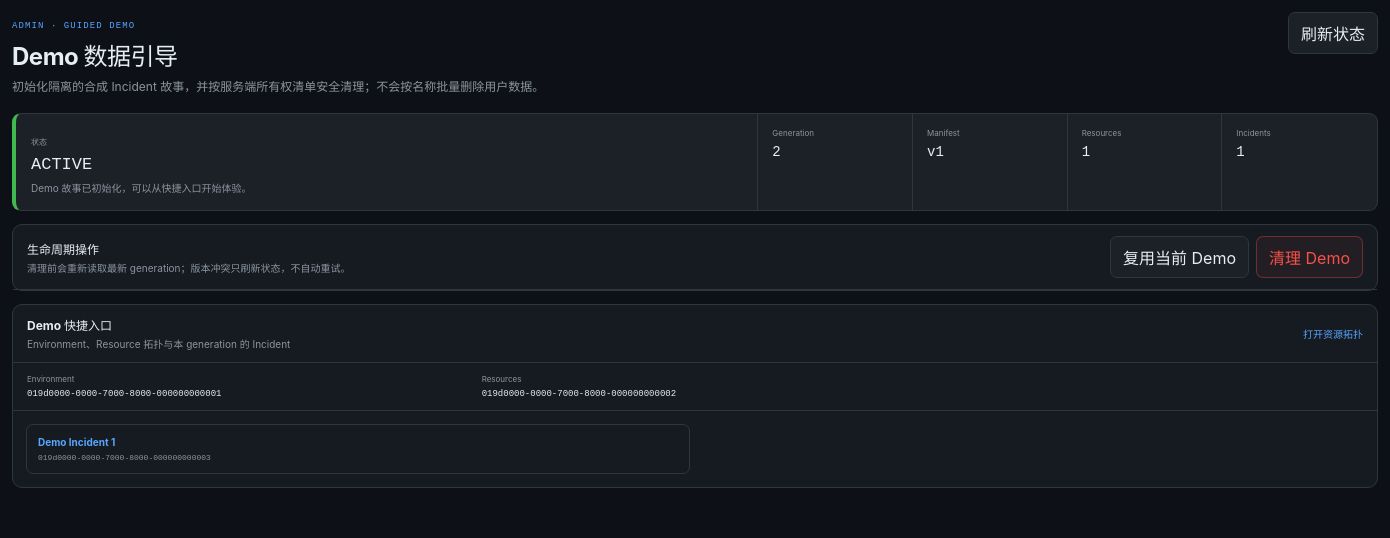
Scenario: Demo Admin page › refreshes status after a generation conflict without retrying cleanup
Click the button "清理 Demo". click: (1310, 257)
box: [1256,236,1363,278]
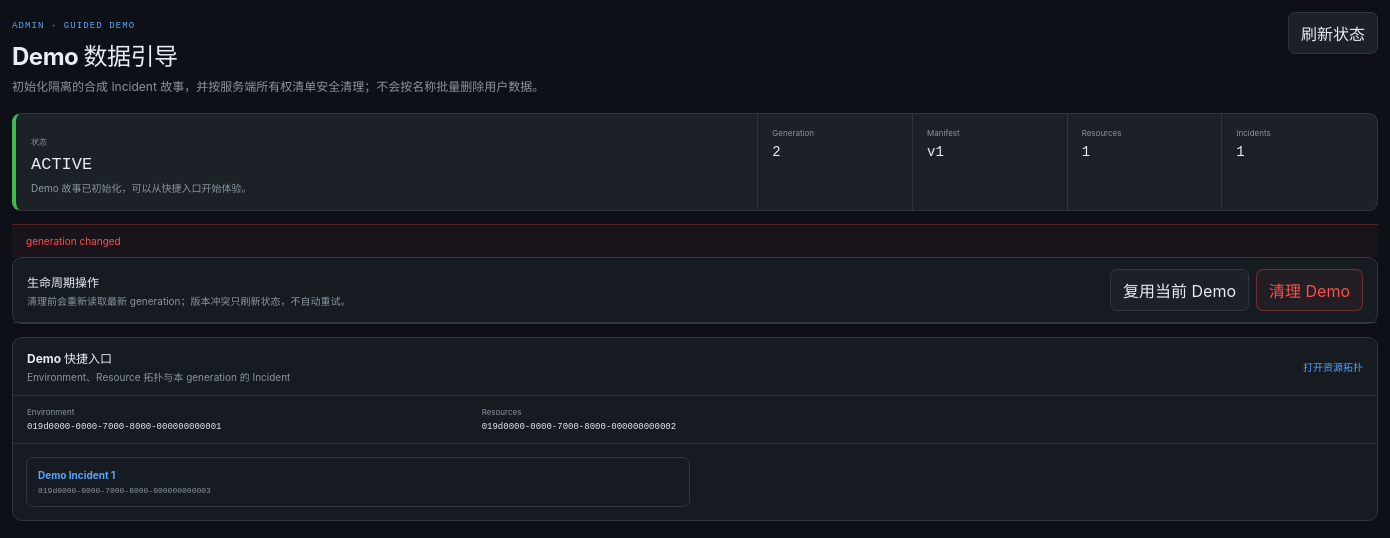
Now the message reads "generation changed", box [26,235,121,247]
